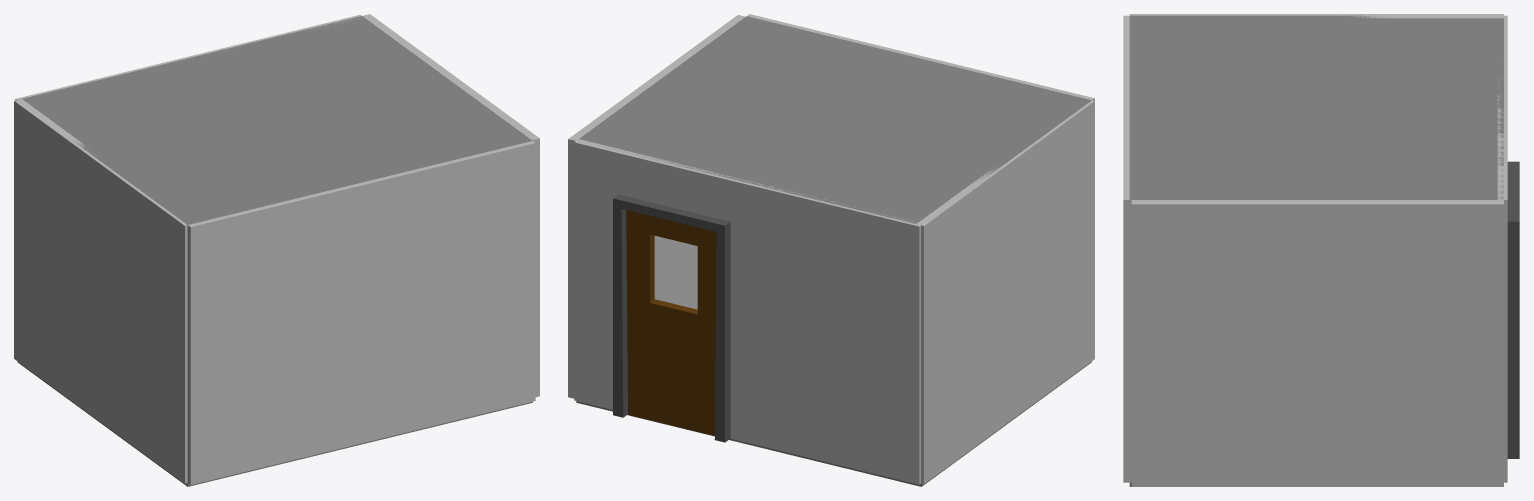
File: office.glb
3 views of the same model, side by side, from view 1: azimuth 30°, elevation 25°; view 2: azimuth 150°, elevation 25°; view 3: azimuth 270°, elevation 25° (orthographic). The views are drawn at different scales.
Visible parts, largest first — view 1: Wall_Medium.001, Floor, Wall_Medium.002, Wall_Medium, Floor.001, Wall_Medium_Door; view 2: Wall_Medium_Door, Floor, Wall_Medium.002, Door_B, Door_Frame, Wall_Medium, Wall_Medium.001, Floor.001; view 3: Wall_Medium, Floor, Door_Frame, Wall_Medium.001, Wall_Medium_Door, Wall_Medium.002.
Boxes of the visible parts, <box> form: Wall_Medium.001: <box>187,141,535,484</box>; Floor: <box>22,16,532,224</box>; Wall_Medium.002: <box>14,99,187,483</box>; Wall_Medium: <box>362,14,539,397</box>; Floor.001: <box>17,361,532,486</box>; Wall_Medium_Door: <box>15,14,362,100</box>; Wall_Medium_Door: <box>574,139,920,484</box>; Floor: <box>579,16,1091,223</box>; Wall_Medium.002: <box>916,100,1094,483</box>; Door_B: <box>626,210,716,435</box>; Door_Frame: <box>613,194,730,442</box>; Wall_Medium: <box>568,15,745,398</box>; Wall_Medium.001: <box>747,14,1094,100</box>; Floor.001: <box>576,361,1091,486</box>; Wall_Medium: <box>1131,200,1503,486</box>; Floor: <box>1129,15,1503,199</box>; Door_Frame: <box>1507,161,1519,458</box>; Wall_Medium.001: <box>1123,15,1131,482</box>; Wall_Medium_Door: <box>1497,15,1507,482</box>; Wall_Medium.002: <box>1129,14,1503,18</box>.
Bounding box in the file's own units: 3.61 × 2.54 × 3.18.
3 materials, 3 textured.
